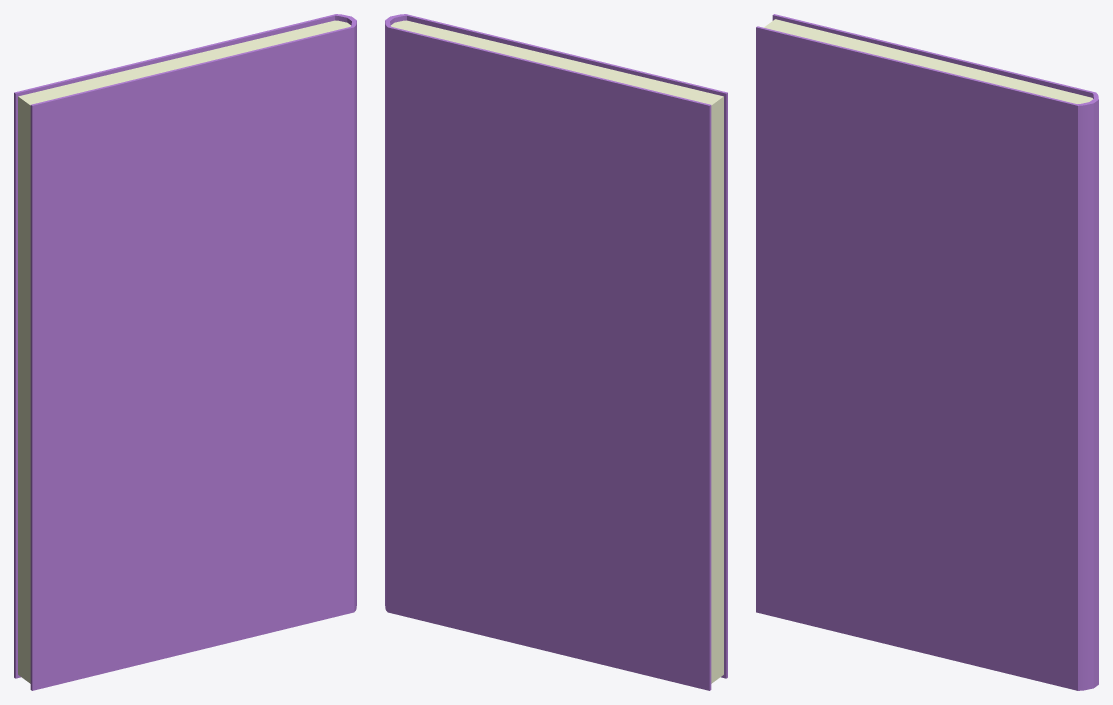
File: newbook5.fbx
The picture shows the model from 3 angles, left to right: view 1: azimuth 30°, elevation 25°; view 2: azimuth 150°, elevation 25°; view 3: azimuth 330°, elevation 25°; orthographic projection.
Visible parts, largest first — view 1: Book5; view 2: Book5; view 3: Book5.
Boxes of the visible parts, box(x1,y1,x2,y2) form: Book5: box(14, 14, 356, 690); Book5: box(385, 14, 727, 690); Book5: box(756, 14, 1098, 690).
Size of the model in its own units: 13.75 by 23.2 by 1.31.
